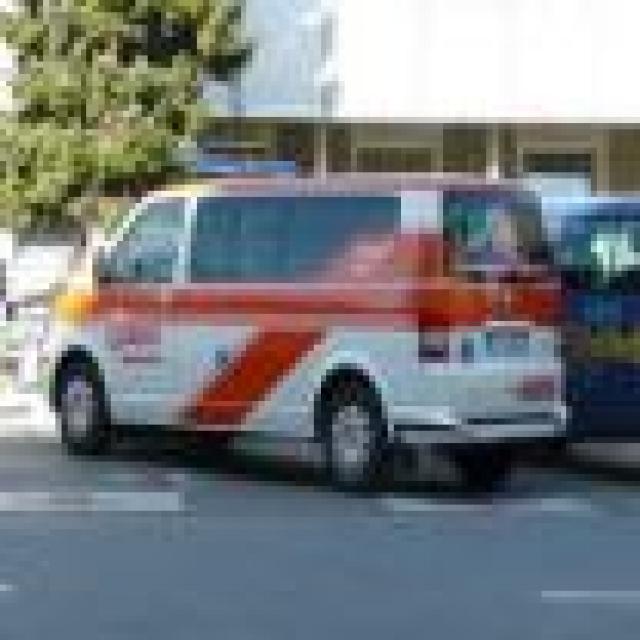emergency-vehicle: (46, 153, 569, 504)
